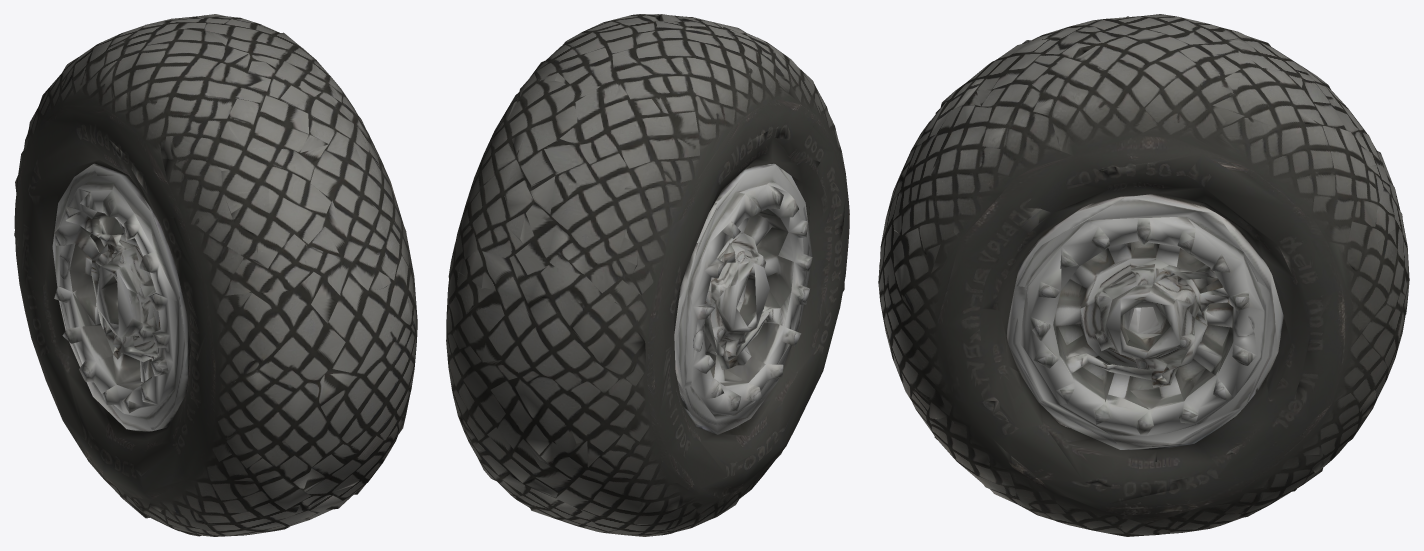
The model's file is mainwheel.glb.
3 views of the same model, side by side, from view 1: azimuth 30°, elevation 25°; view 2: azimuth 150°, elevation 25°; view 3: azimuth 270°, elevation 25° (orthographic).
Visible parts, largest first — view 1: tripo_node_b25b9d89-5394-40f8-ae3e-c79ff709dc5a; view 2: tripo_node_b25b9d89-5394-40f8-ae3e-c79ff709dc5a; view 3: tripo_node_b25b9d89-5394-40f8-ae3e-c79ff709dc5a.
Part boxes in pixels (bbox=[...]): tripo_node_b25b9d89-5394-40f8-ae3e-c79ff709dc5a: bbox=[14, 14, 417, 536]; tripo_node_b25b9d89-5394-40f8-ae3e-c79ff709dc5a: bbox=[446, 14, 849, 536]; tripo_node_b25b9d89-5394-40f8-ae3e-c79ff709dc5a: bbox=[878, 14, 1409, 536].
Bounding box in the file's own units: 0.4896 × 0.9942 × 0.9925.
Materials: 1 (1 with a texture image).
